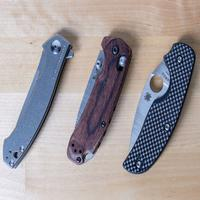knife: (5, 24, 197, 184)
